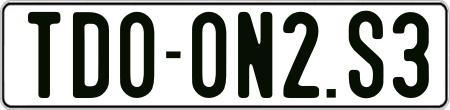0: (119, 12, 159, 101), (192, 12, 226, 101)
2: (283, 11, 323, 99)
3: (391, 12, 431, 98)
D: (73, 10, 109, 98)
N: (235, 9, 271, 95)
S: (347, 10, 383, 98)
T: (27, 11, 62, 101)
